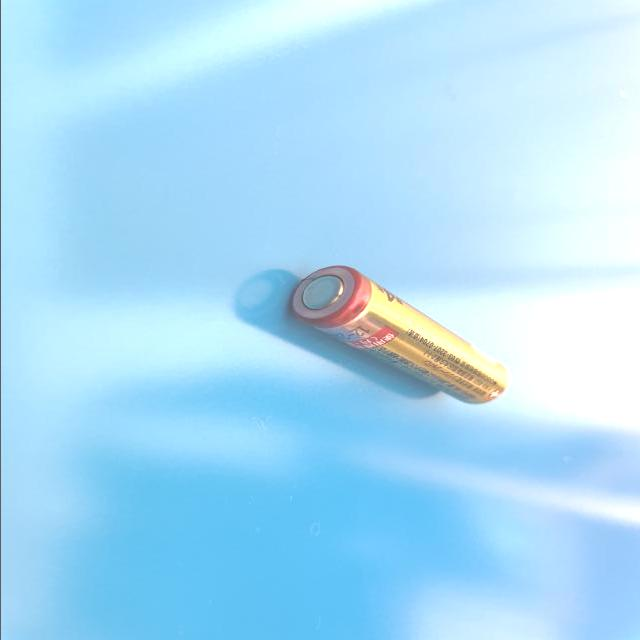AA: (287, 266, 513, 406)
